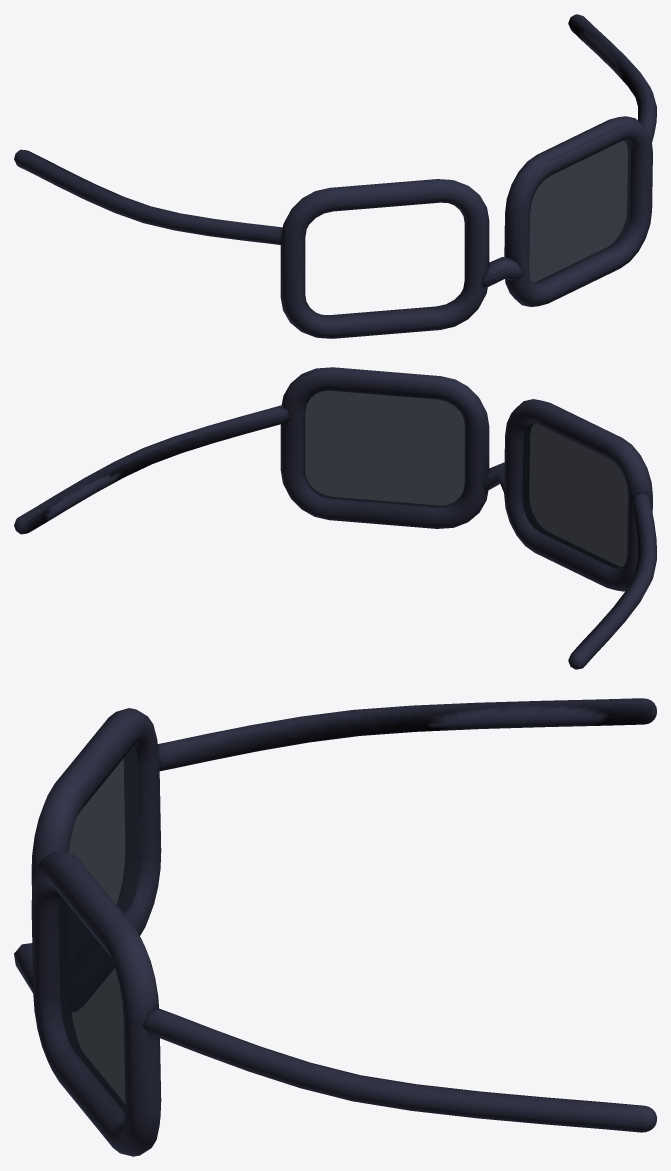
The model's file is sunglasses.glb.
3 renders of one model, top to bottom at view 1: azimuth 30°, elevation 25°; view 2: azimuth 150°, elevation 25°; view 3: azimuth 270°, elevation 25°, orthographic. The views are drawn at different scales.
Visible parts, largest first — view 1: sunglasses; view 2: sunglasses; view 3: sunglasses.
Boxes of the visible parts, x1,y1,x2,y2 form: sunglasses: (14, 14, 656, 338); sunglasses: (14, 367, 656, 669); sunglasses: (14, 698, 656, 1156).
Size of the model in its own units: 0.5762 by 0.146 by 0.3731.
2 materials, 1 textured.
